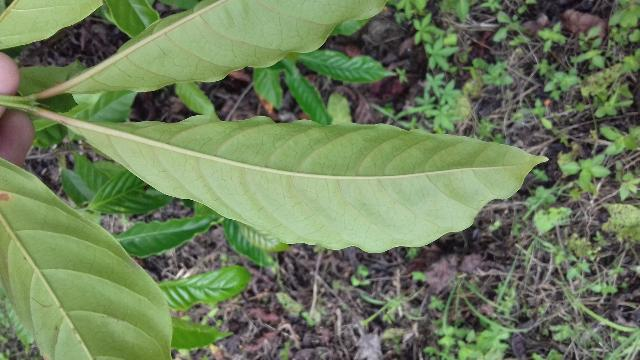healthy: (22, 106, 549, 255)
